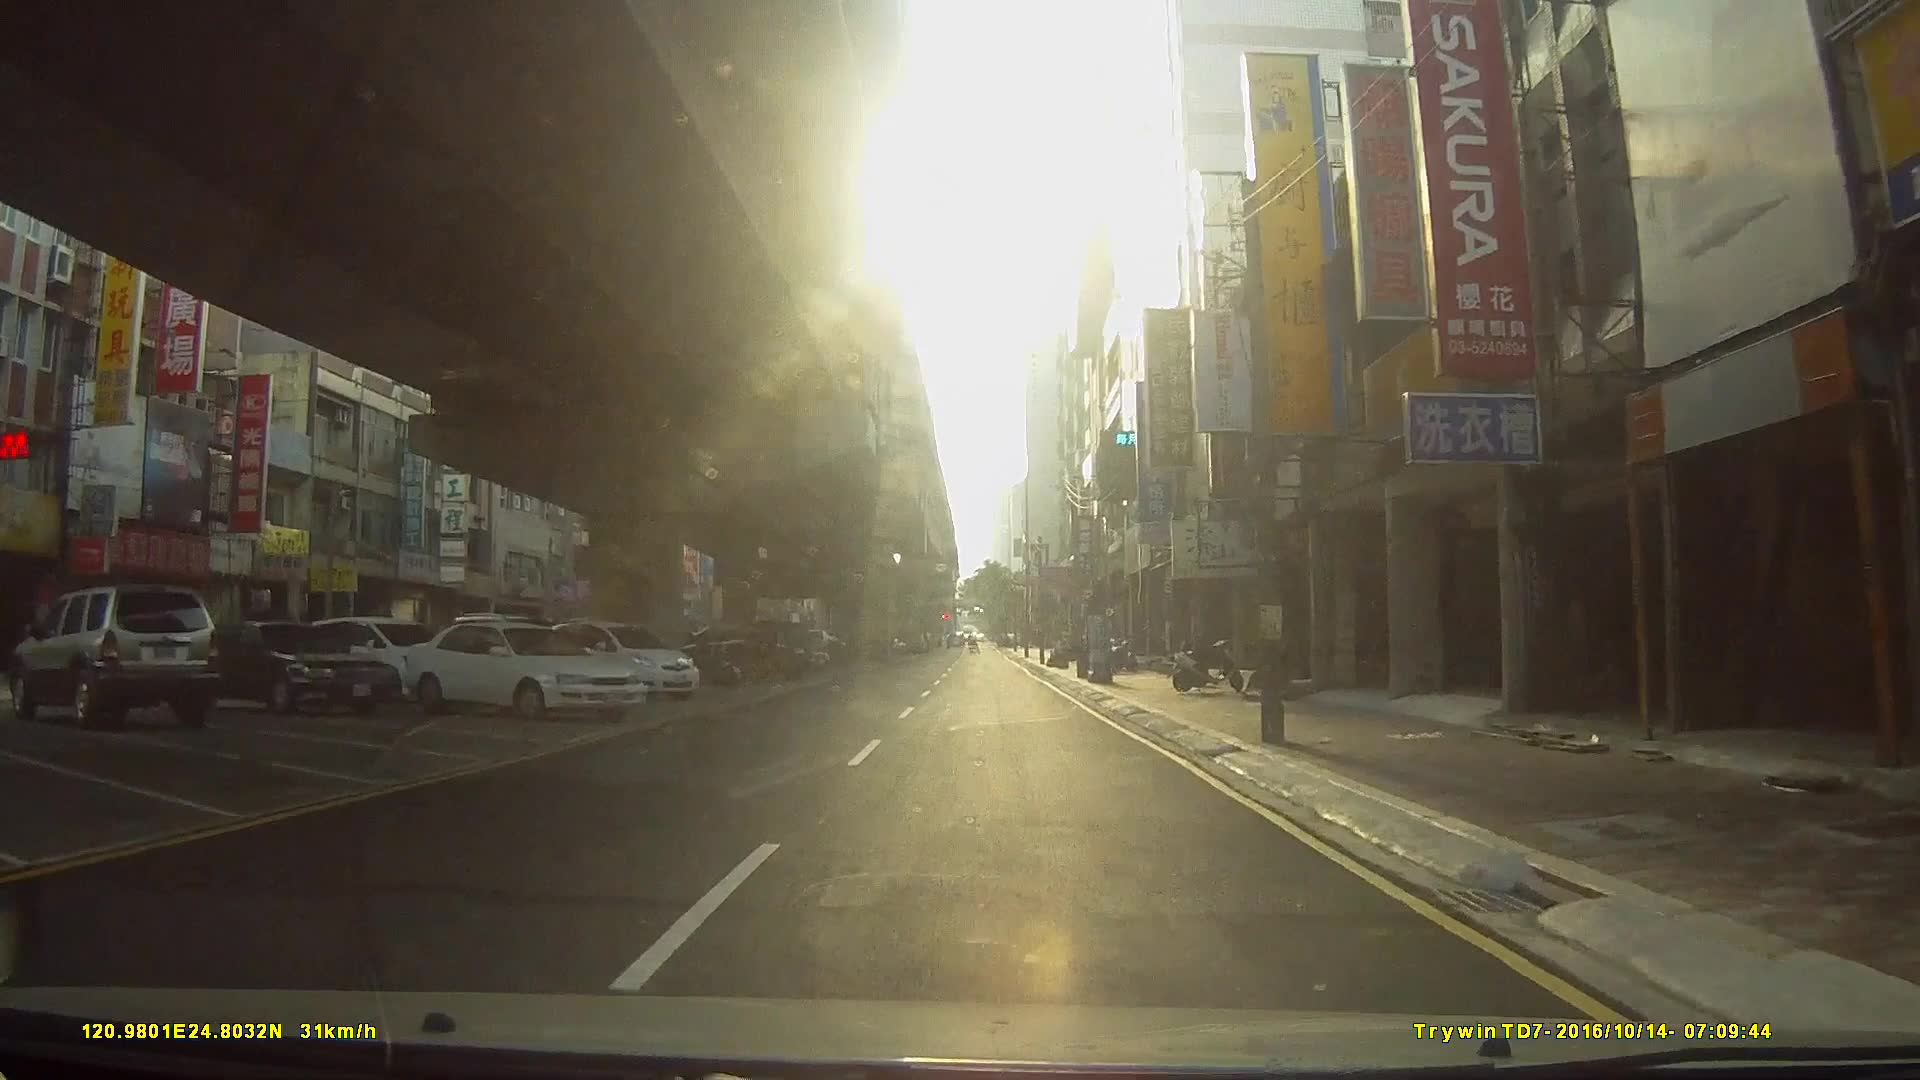vehicle: (7, 583, 222, 731), (397, 616, 647, 723), (174, 618, 398, 715), (535, 620, 696, 705)
